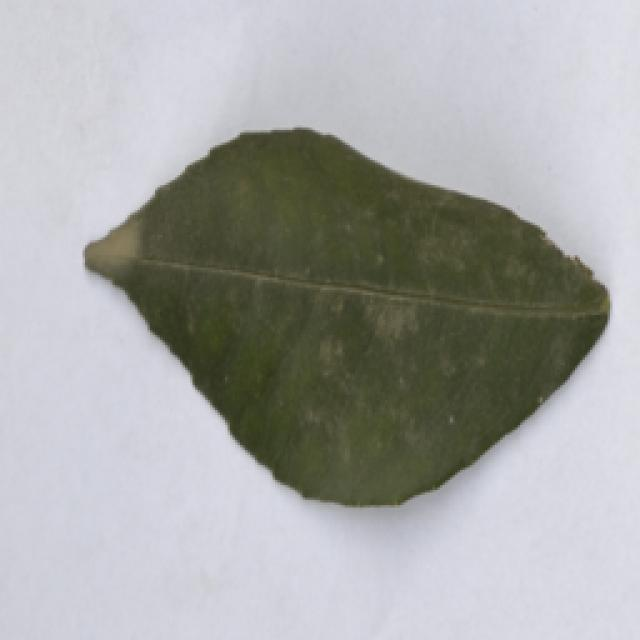healthy: (80, 117, 610, 514)
